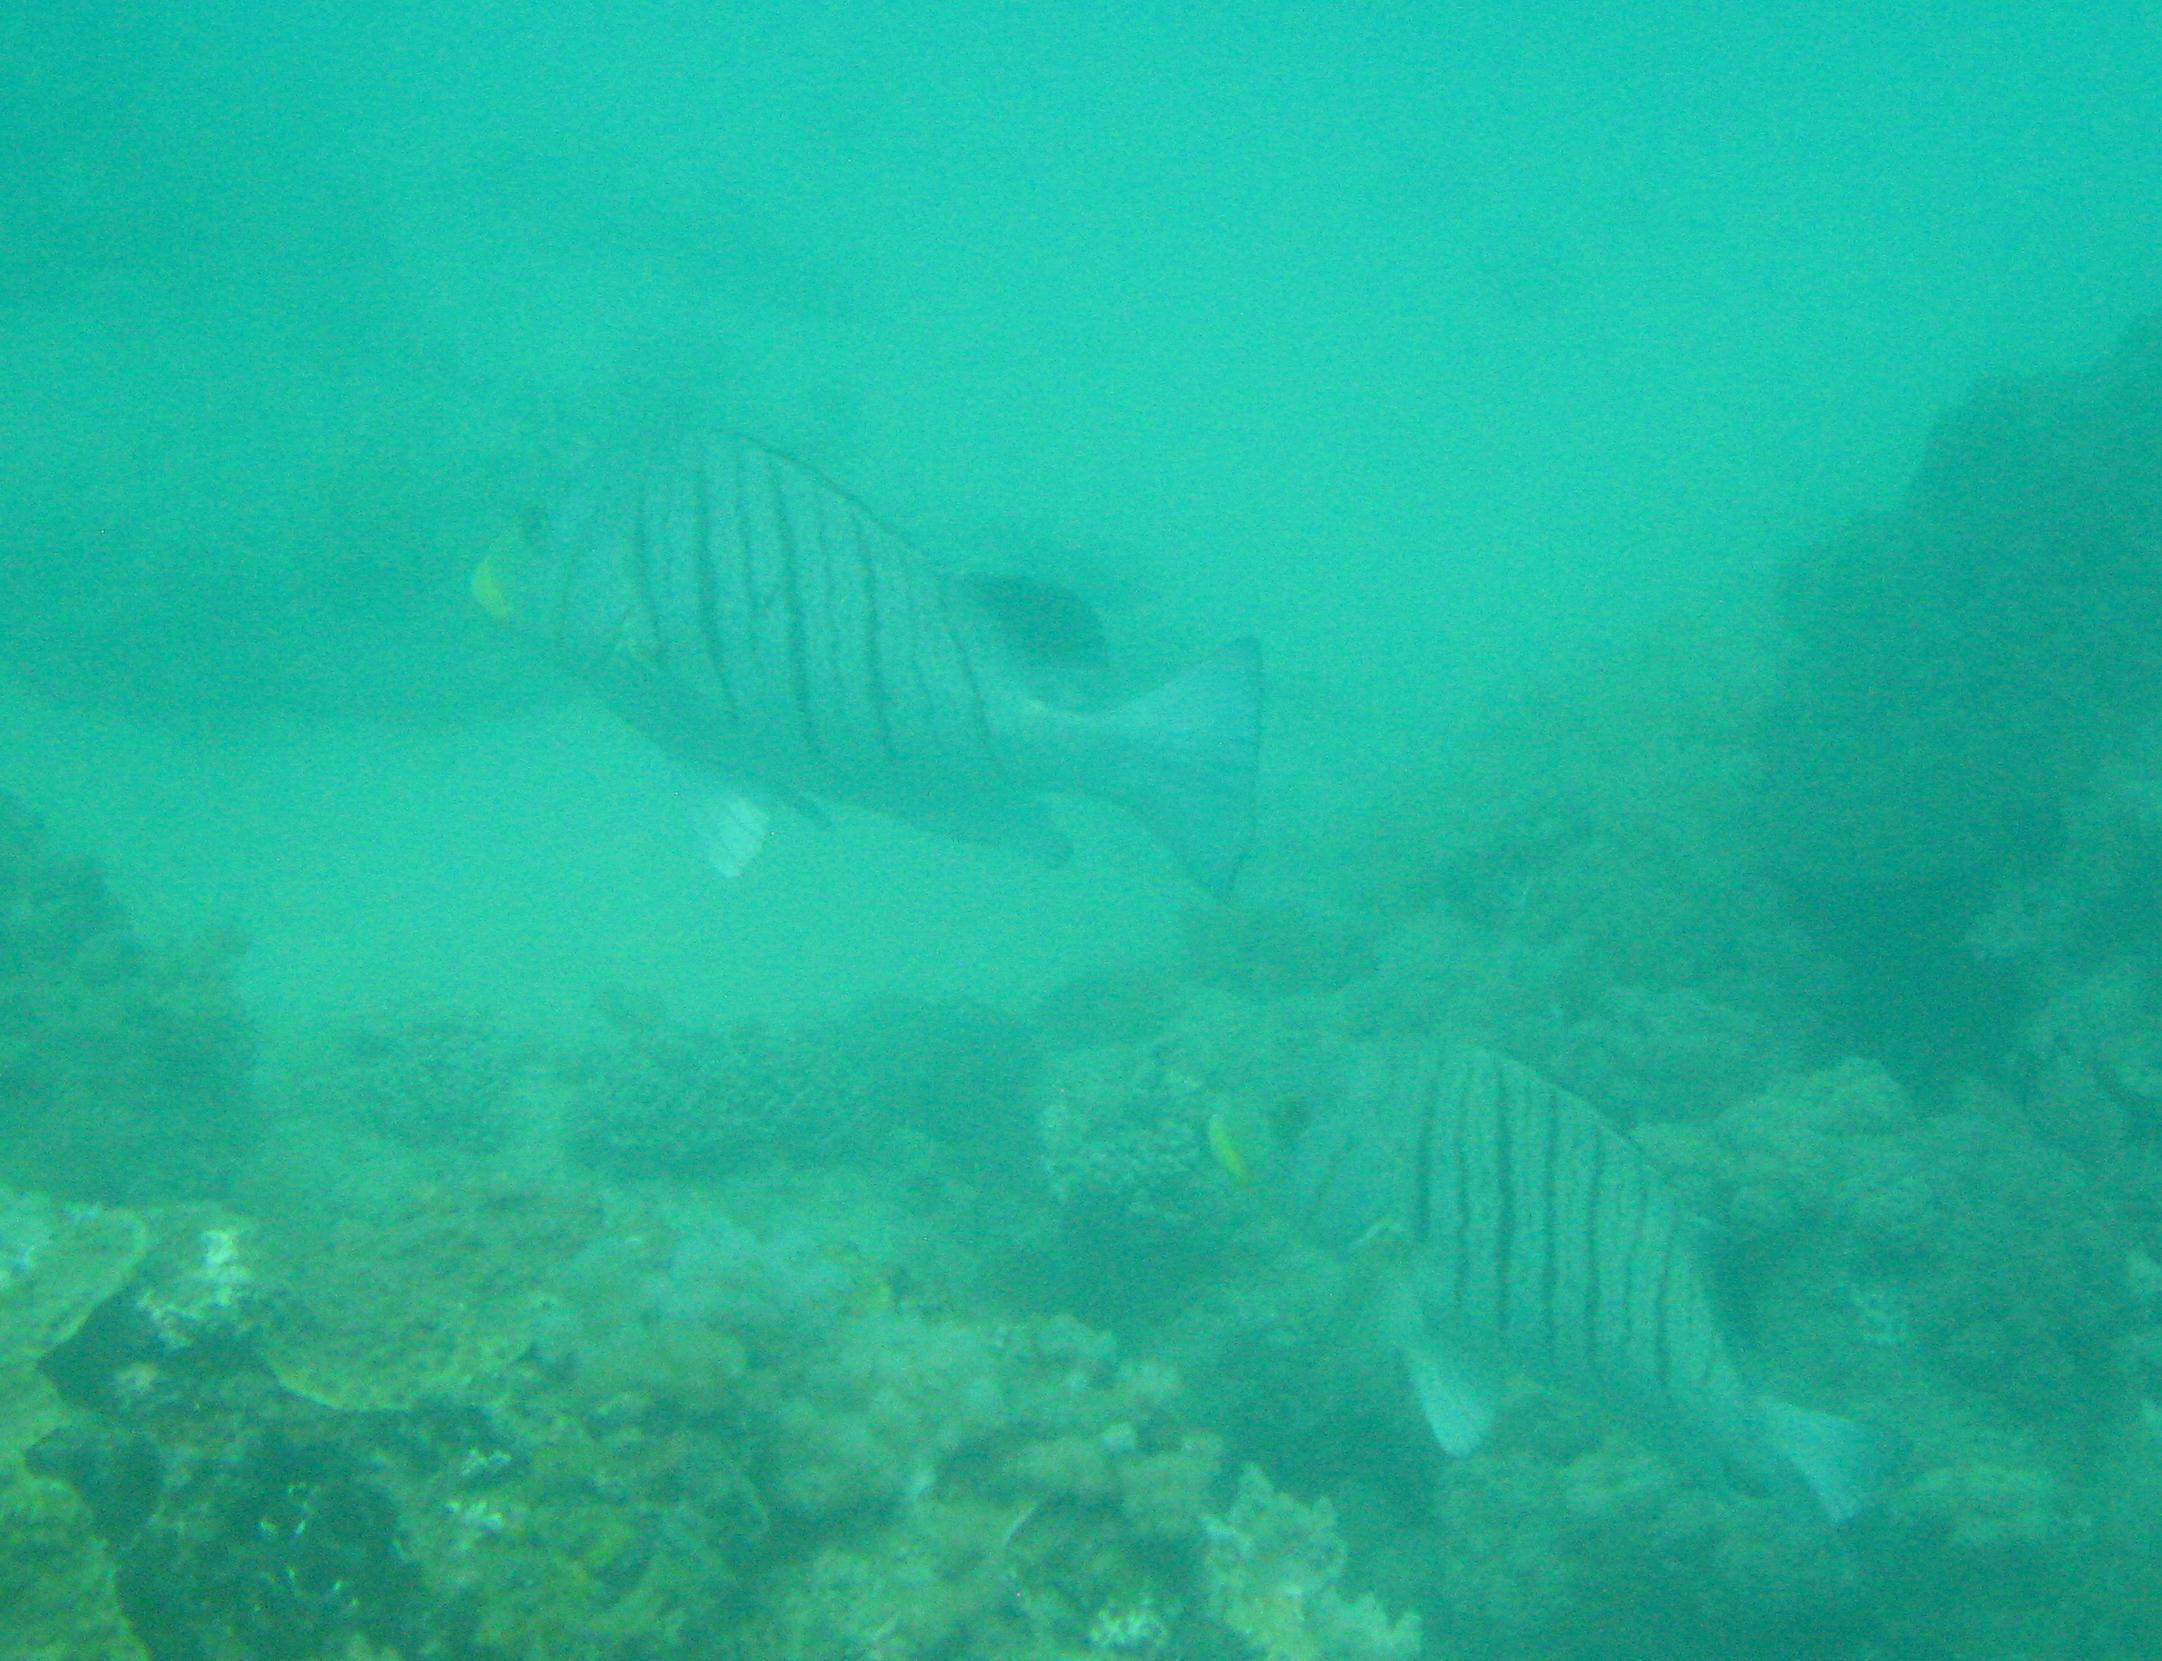Fish: (428, 427, 1256, 914), (1181, 1035, 1930, 1553)
